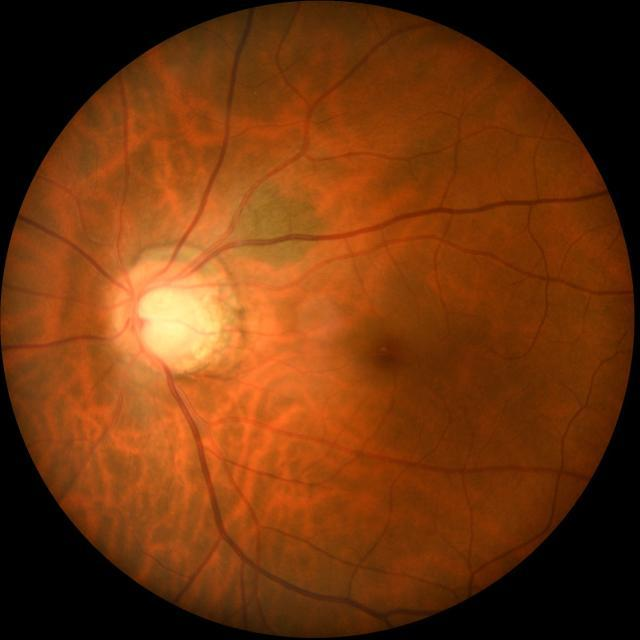OC: (133, 283, 204, 356)
OD: (114, 260, 218, 370)
